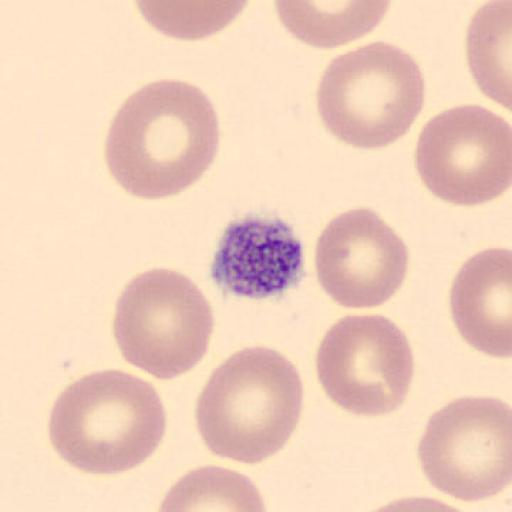Platelet: (206, 211, 310, 302)
RBC: (102, 76, 222, 203), (193, 344, 306, 466), (46, 366, 169, 477), (314, 38, 427, 151), (111, 265, 216, 382), (314, 310, 416, 419), (416, 392, 512, 504), (413, 102, 511, 208), (313, 205, 411, 311), (448, 245, 512, 360), (273, 0, 394, 49), (155, 464, 270, 512), (465, 0, 512, 114), (131, 0, 252, 42), (352, 493, 480, 512)
